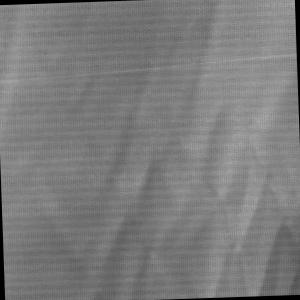Wrinkle: (37, 1, 300, 300)
